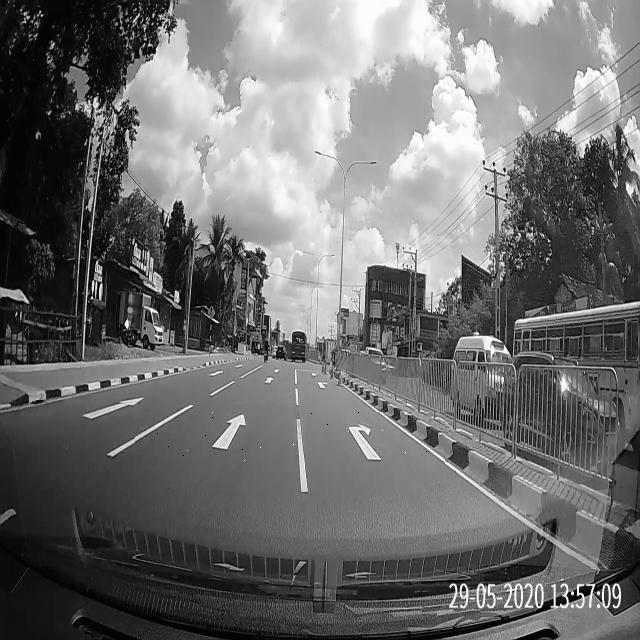forward: (136, 404, 305, 461)
right: (297, 413, 445, 468)
